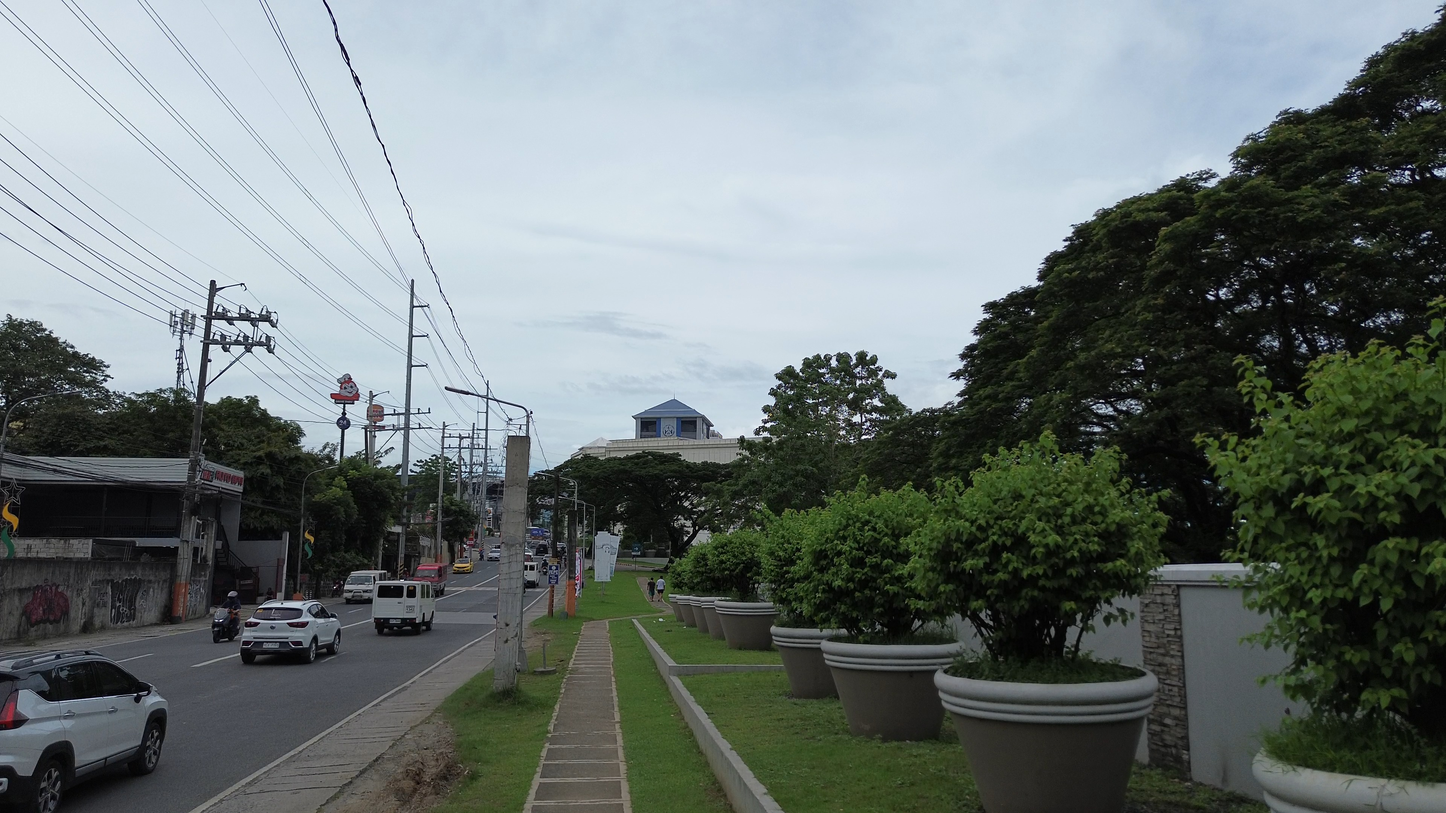car: (452, 559, 473, 573)
motorcycle: (212, 608, 239, 642)
vehicle: (0, 650, 167, 813), (241, 601, 341, 664), (372, 581, 437, 634), (343, 570, 387, 604), (413, 563, 448, 597), (523, 556, 542, 588), (487, 544, 500, 561)
